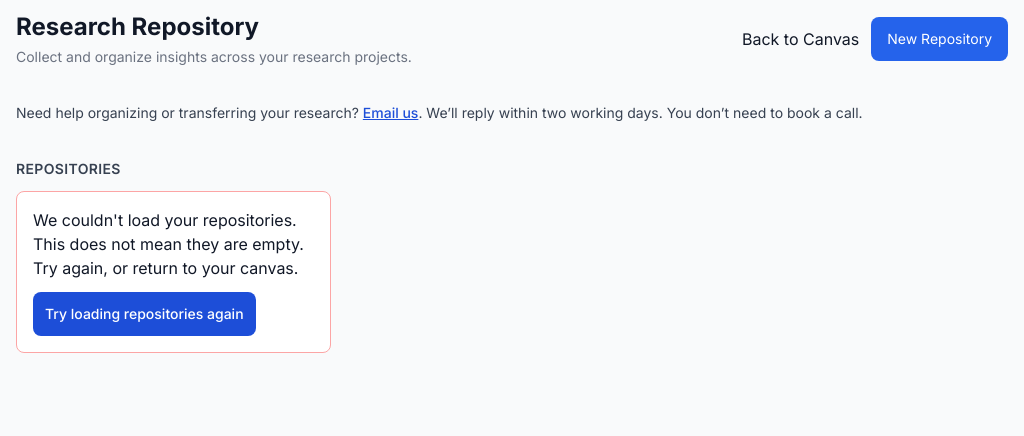
Test: RepositoryPage teaching empty states › recovers a failed repository read without claiming there are none or creating records
The image size is (1024, 436).
Check: the text "No repositories yet" is not shown
Click the button "Try loading repositories again". click: click(144, 314)
box: x1=33 y1=292 x2=256 y2=336
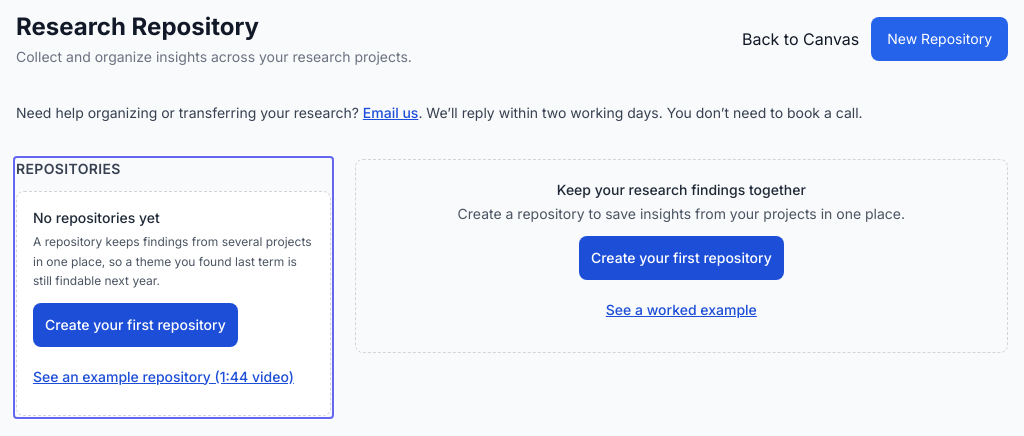
Check: the text "No repositories yet" is shown, box x1=33 y1=209 x2=160 y2=226
